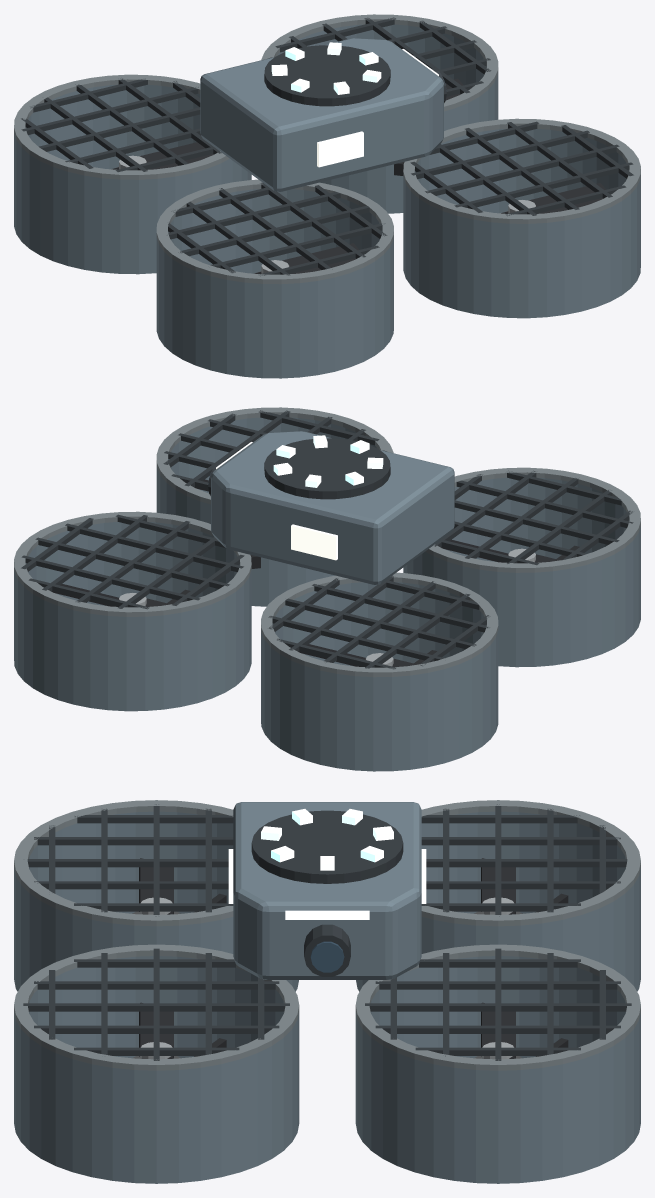
File: drone-2763-spec2027.glb
3 views of the same model, one above another, from view 1: azimuth 30°, elevation 25°; view 2: azimuth 150°, elevation 25°; view 3: azimuth 270°, elevation 25° (orthographic). The views are drawn at different scales.
Visible parts, largest first — view 1: DroneBody_TeamPrimaryShell, DroneBody_RobotMatteGraphite, DroneBody_RobotMatteAluminum, DroneBody_TeamGlow, DroneBody_StatusWhite, Rotor_0_CarbonPlate, Rotor_2_CarbonPlate, Rotor_1_CarbonPlate; view 2: DroneBody_TeamPrimaryShell, DroneBody_RobotMatteGraphite, DroneBody_RobotMatteAluminum, DroneBody_TeamGlow, DroneBody_StatusWhite; view 3: DroneBody_TeamPrimaryShell, DroneBody_RobotMatteGraphite, DroneBody_RobotMatteAluminum, DroneBody_TeamGlow, DroneBody_StatusWhite, FpvLens, Rotor_0_CarbonPlate, Rotor_1_CarbonPlate, Rotor_3_CarbonPlate, Rotor_2_CarbonPlate, DroneBody_CarbonPlate.
Boxes of the visible parts, <box> form: DroneBody_TeamPrimaryShell: <box>14,24,640,378</box>; DroneBody_RobotMatteGraphite: <box>21,17,633,276</box>; DroneBody_RobotMatteAluminum: <box>14,14,640,284</box>; DroneBody_TeamGlow: <box>271,42,381,94</box>; DroneBody_StatusWhite: <box>317,49,438,167</box>; Rotor_0_CarbonPlate: <box>254,243,358,273</box>; Rotor_2_CarbonPlate: <box>501,183,605,213</box>; Rotor_1_CarbonPlate: <box>111,142,213,169</box>; DroneBody_TeamPrimaryShell: <box>14,417,640,771</box>; DroneBody_RobotMatteGraphite: <box>21,410,633,669</box>; DroneBody_RobotMatteAluminum: <box>14,407,640,677</box>; DroneBody_TeamGlow: <box>273,435,383,487</box>; DroneBody_StatusWhite: <box>216,442,337,560</box>; DroneBody_TeamPrimaryShell: <box>14,802,640,1183</box>; DroneBody_RobotMatteGraphite: <box>23,804,631,1060</box>; DroneBody_RobotMatteAluminum: <box>14,800,640,1070</box>; DroneBody_TeamGlow: <box>261,809,393,870</box>; DroneBody_StatusWhite: <box>228,849,426,919</box>; FpvLens: <box>310,941,344,972</box>; Rotor_0_CarbonPlate: <box>139,858,173,914</box>; Rotor_1_CarbonPlate: <box>481,858,515,914</box>; Rotor_3_CarbonPlate: <box>481,1002,515,1058</box>; Rotor_2_CarbonPlate: <box>139,1002,173,1058</box>; DroneBody_CarbonPlate: <box>194,893,568,1056</box>.
Bounding box in the file's own units: 0.12 × 0.0456 × 0.12.
